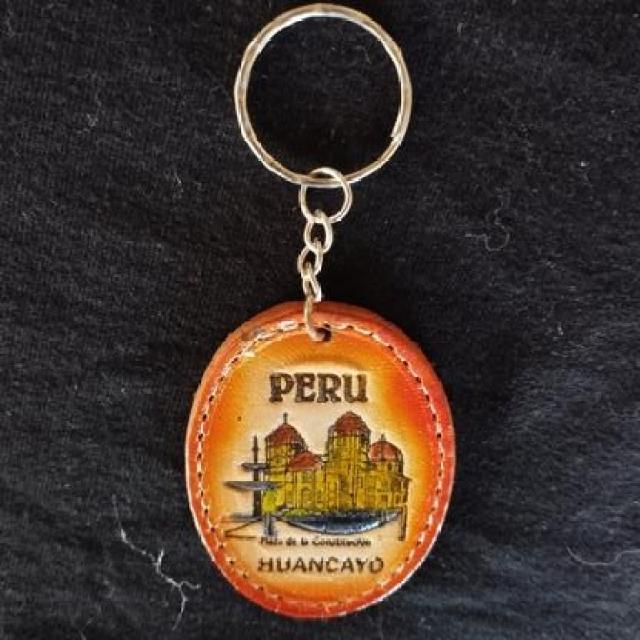Llavero: (183, 298, 457, 619)
